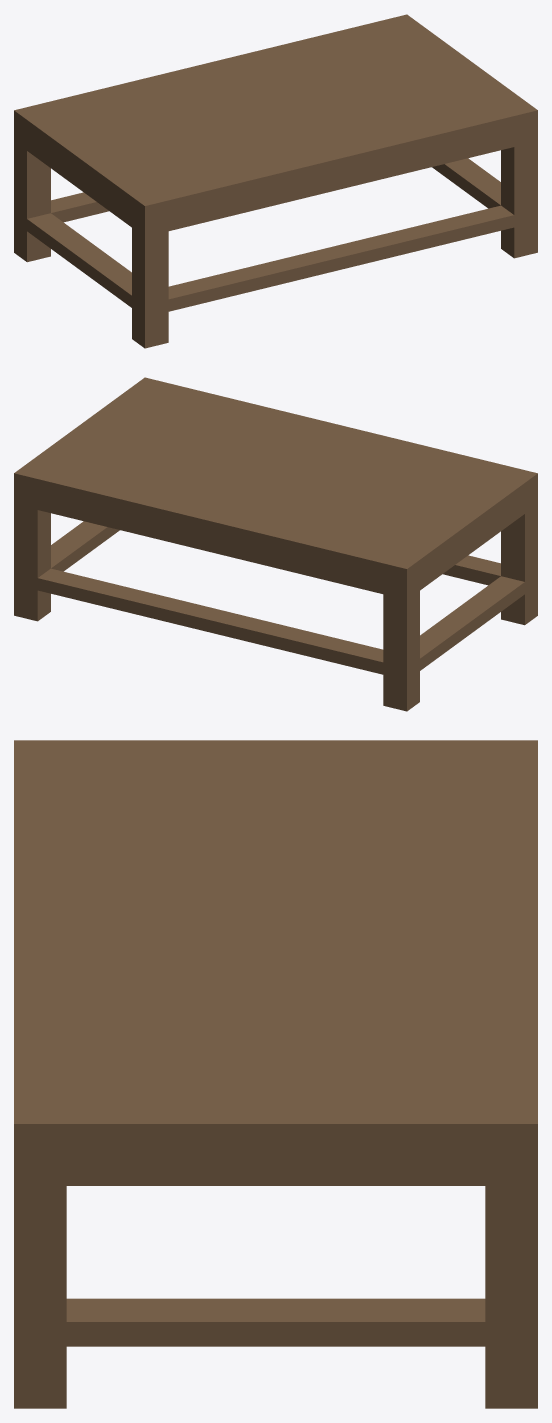
File: pk_cocktail_oak.glb
3 views of the same model, one above another, from view 1: azimuth 30°, elevation 25°; view 2: azimuth 150°, elevation 25°; view 3: azimuth 270°, elevation 25° (orthographic). The views are drawn at different scales.
Visible parts, largest first — view 1: pk_cocktail_oak; view 2: pk_cocktail_oak; view 3: pk_cocktail_oak.
Boxes of the visible parts, x1,y1,x2,y2 form: pk_cocktail_oak: [14, 14, 537, 348]; pk_cocktail_oak: [14, 377, 537, 711]; pk_cocktail_oak: [14, 740, 537, 1408].
Bounding box in the file's own units: 1.3 × 0.45 × 0.75.
1 material, 1 textured.
